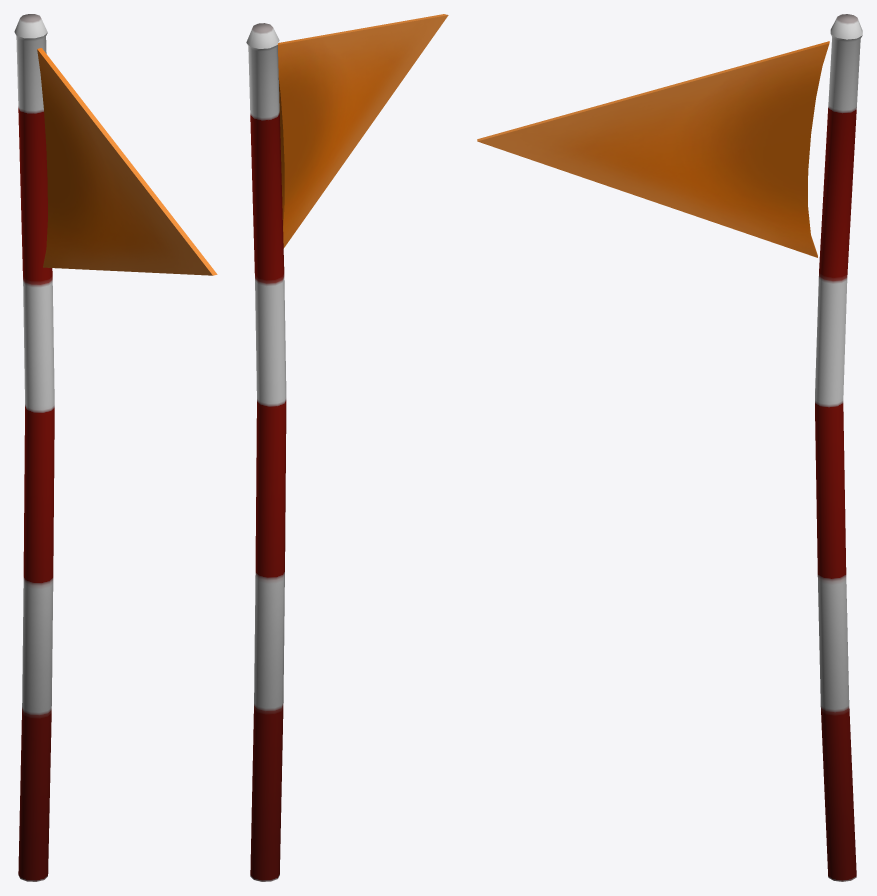
File: flagMesh.FBX
The picture shows the model from 3 angles, left to right: view 1: azimuth 30°, elevation 25°; view 2: azimuth 150°, elevation 25°; view 3: azimuth 270°, elevation 25°; orthographic projection.
Parts seen in each view (by area): view 1: flag; view 2: flag; view 3: flag.
Boxes of the visible parts, x1=… form: flag: x1=14, y1=14, x2=217, y2=881; flag: x1=246, y1=14, x2=448, y2=881; flag: x1=477, y1=14, x2=862, y2=881.
Size of the model in its own units: 87.92 by 2464 by 1004.
